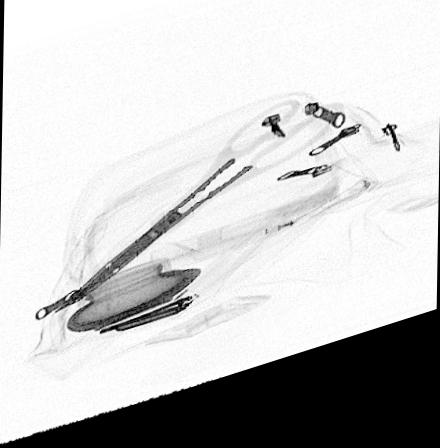Scissors: (49, 117, 347, 319)
